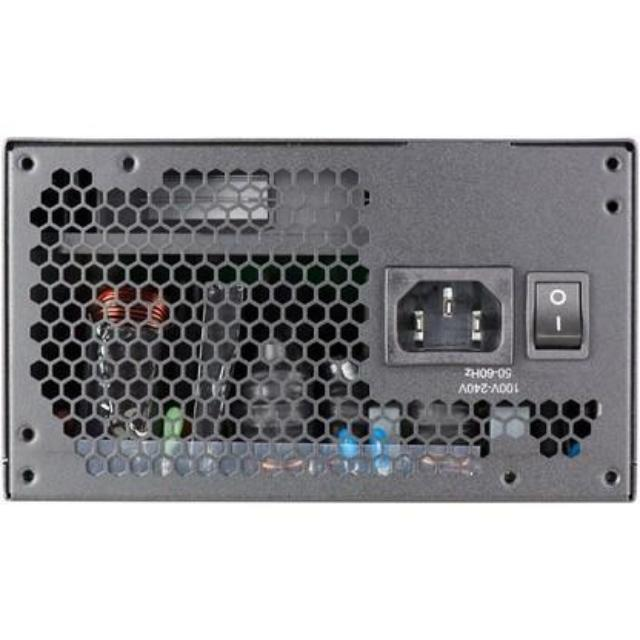PSU: (0, 131, 634, 514)
